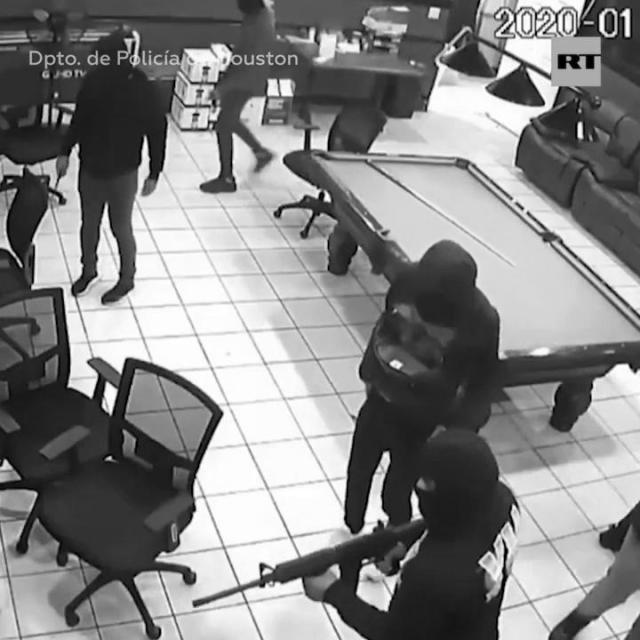weapon: (182, 516, 424, 628)
